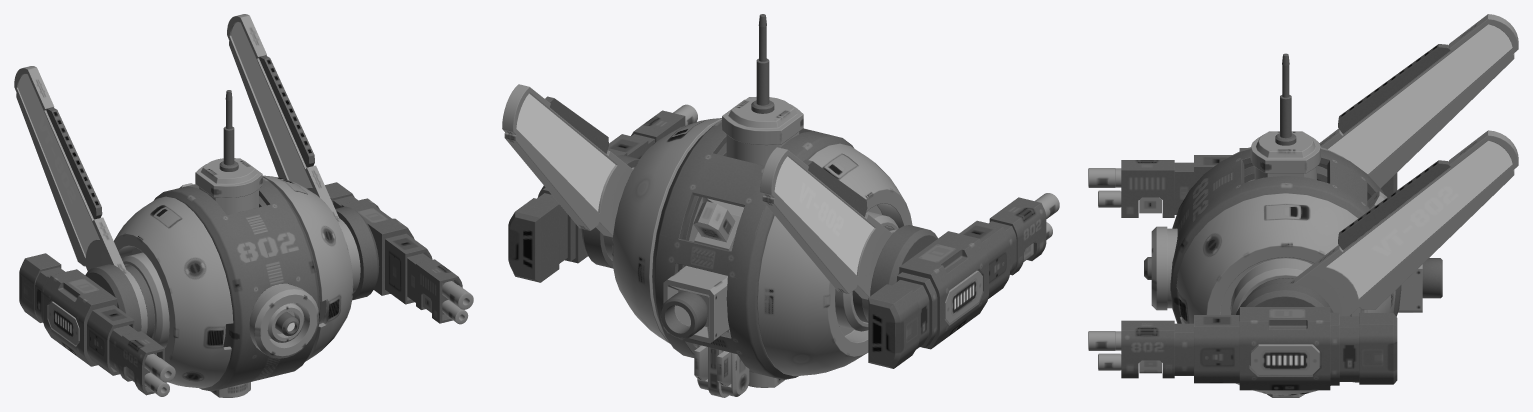
File: DronVT-802tex.fbx
3 renders of one model, left to right at view 1: azimuth 30°, elevation 25°; view 2: azimuth 150°, elevation 25°; view 3: azimuth 270°, elevation 25°, orthographic. The views are drawn at different scales.
Parts seen in each view (by area): view 1: Sphere.008, Cube.003, Cylinder.009, Sphere.006, Sphere.007, Cylinder.006, Sphere.005, Cylinder.008, Cylinder.002, Cylinder.011; view 2: Sphere.008, Cube.003, Cylinder.009, Sphere.006, Sphere.007, Cube.004, Cylinder.008, Sphere.005, Cylinder.010, Cylinder.011, Cylinder.002; view 3: Cube.003, Sphere.007, Sphere.006, Sphere.008, Cylinder.009, Cylinder.008, Cylinder.002, Cylinder.006, Sphere.005, Cube.004, Cylinder.011, Cylinder.010 (+1 smaller).
Part boxes in pixels (x1,y1,x2,y2): Sphere.008: [114, 175, 353, 388]; Cube.003: [19, 182, 462, 395]; Cylinder.009: [154, 177, 320, 391]; Sphere.006: [14, 14, 360, 334]; Sphere.007: [18, 22, 312, 255]; Cylinder.006: [249, 283, 318, 358]; Sphere.005: [85, 206, 379, 337]; Cylinder.008: [195, 158, 262, 397]; Cylinder.002: [144, 281, 473, 396]; Cylinder.011: [219, 90, 238, 171]; Sphere.008: [612, 118, 912, 376]; Cube.003: [508, 110, 1046, 368]; Cylinder.009: [652, 120, 854, 379]; Sphere.006: [502, 84, 896, 320]; Sphere.007: [516, 93, 873, 274]; Cube.004: [663, 201, 749, 397]; Cylinder.008: [702, 97, 803, 387]; Sphere.005: [581, 155, 937, 322]; Cylinder.010: [660, 291, 707, 338]; Cylinder.011: [751, 14, 774, 113]; Cylinder.002: [673, 104, 1059, 239]; Cube.003: [1121, 148, 1397, 390]; Sphere.007: [1327, 24, 1512, 298]; Sphere.006: [1289, 14, 1518, 316]; Sphere.008: [1176, 147, 1395, 395]; Cylinder.009: [1170, 149, 1401, 323]; Cylinder.008: [1250, 131, 1320, 397]; Cylinder.002: [1088, 168, 1121, 370]; Cylinder.006: [1144, 226, 1177, 310]; Sphere.005: [1236, 278, 1333, 314]; Cube.004: [1353, 191, 1422, 382]; Cylinder.011: [1275, 53, 1296, 145]; Cylinder.010: [1422, 258, 1442, 298].
Bounding box in the file's own units: 325 × 280 × 326.
Materials: 3 (2 with a texture image).
